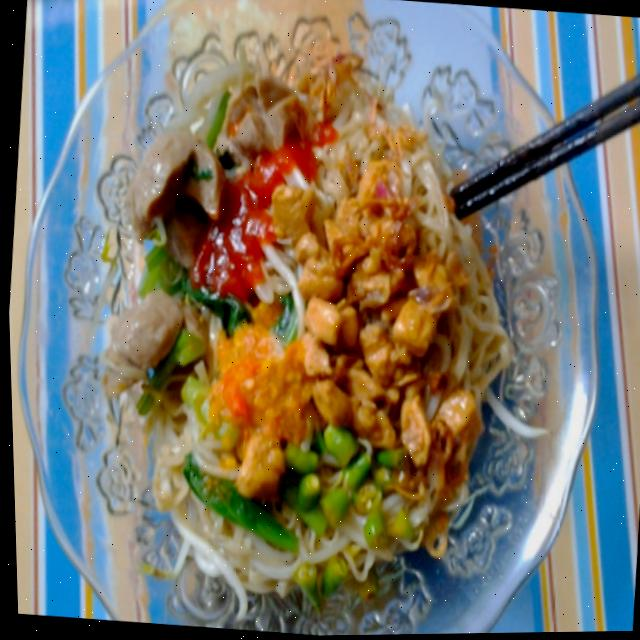面条主食: (0, 0, 608, 632)
